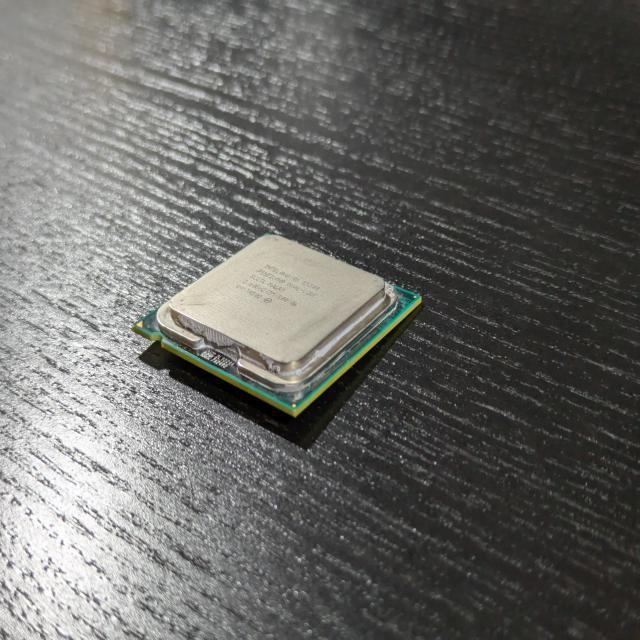CPU: (133, 230, 424, 418)
